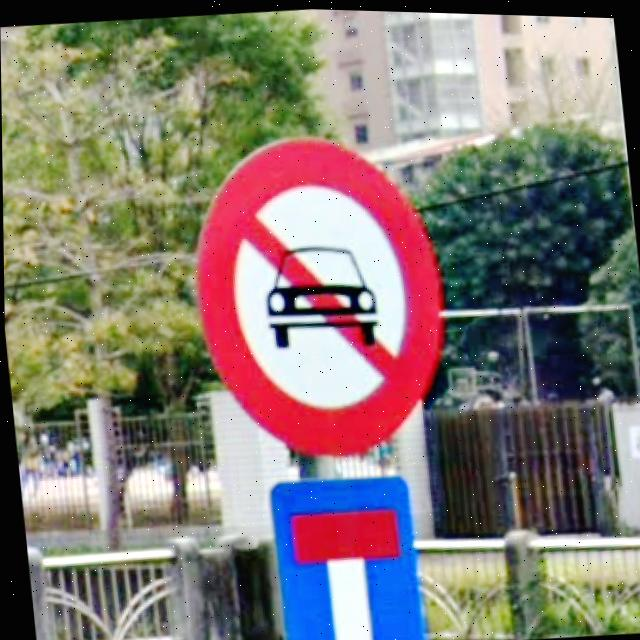nocar: (194, 136, 444, 456)
